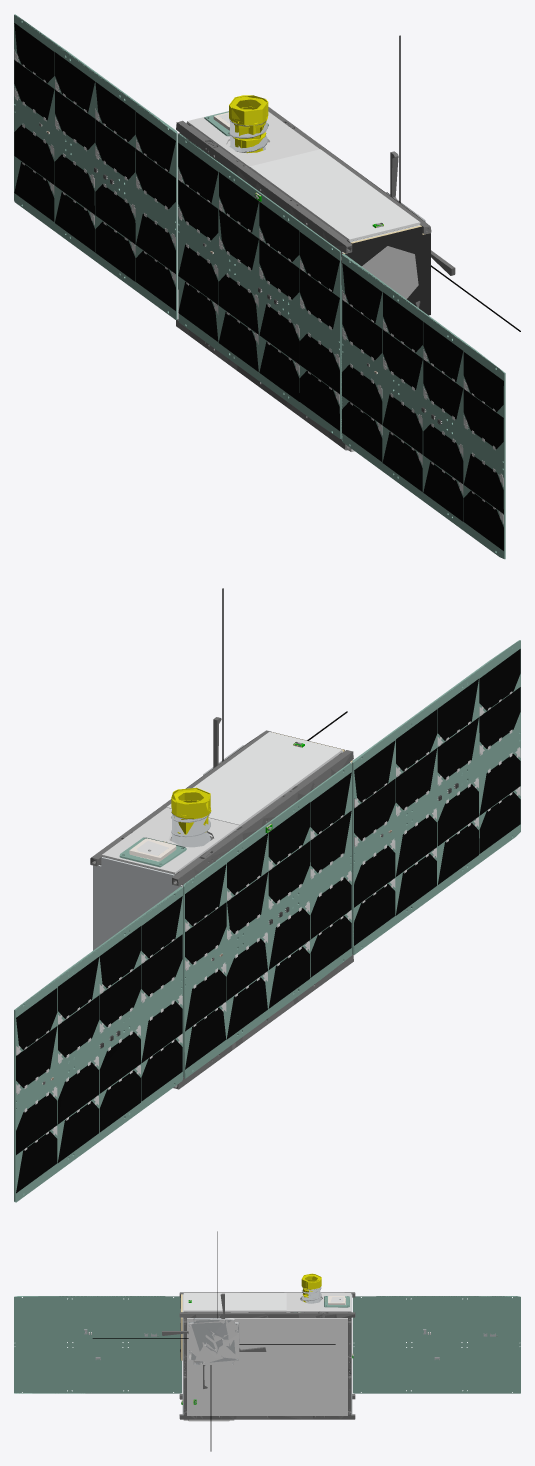
The model's file is cubesat.glb.
The picture shows the model from 3 angles, top to bottom: view 1: azimuth 30°, elevation 25°; view 2: azimuth 150°, elevation 25°; view 3: azimuth 270°, elevation 25°; orthographic projection. The views are drawn at different scales.
Parts seen in each view (by area): view 1: Full_assembly_V2.1; view 2: Full_assembly_V2.1; view 3: Full_assembly_V2.1.
Boxes of the visible parts, box(x1,y1,x2,y2) form: Full_assembly_V2.1: box(14, 14, 520, 559); Full_assembly_V2.1: box(14, 588, 520, 1202); Full_assembly_V2.1: box(14, 1231, 520, 1451).
Bounding box in the file's own units: 0.1129 × 0.471 × 0.9825.
